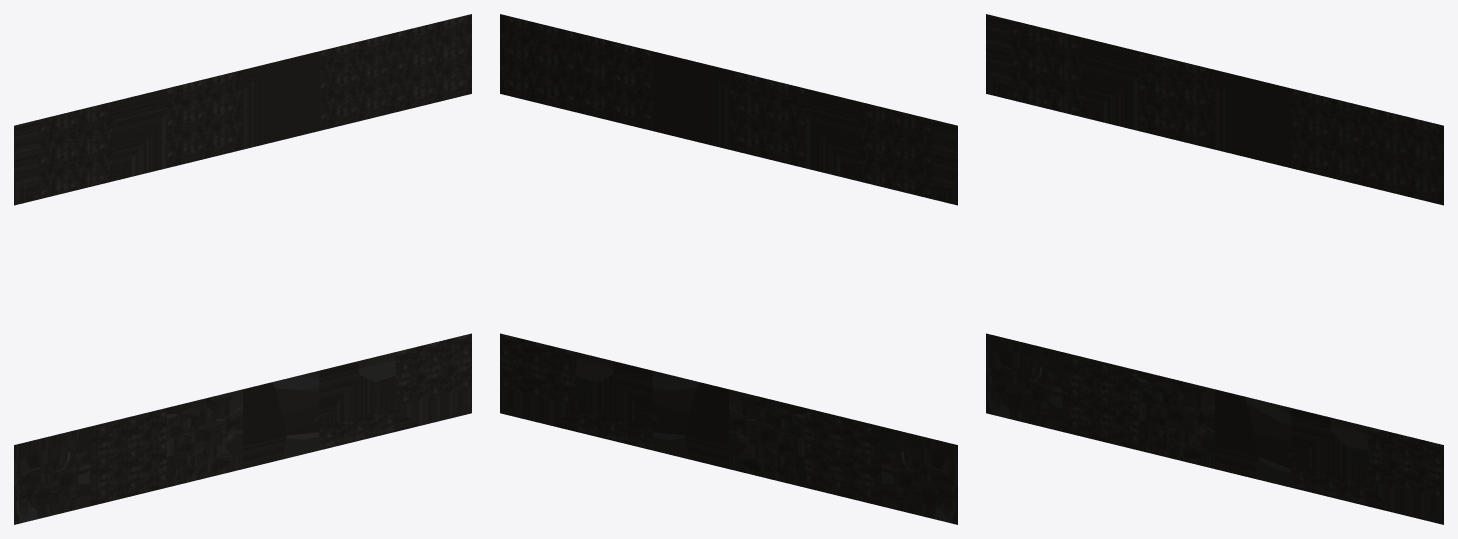
Rendered from Backface_Corridor1to2.fbx.
The picture shows the model from 3 angles, left to right: view 1: azimuth 30°, elevation 25°; view 2: azimuth 150°, elevation 25°; view 3: azimuth 330°, elevation 25°; orthographic projection.
Parts seen in each view (by area): view 1: Backface_Corridor1to2; view 2: Backface_Corridor1to2; view 3: Backface_Corridor1to2.
Boxes of the visible parts, left/top/right/bottom form: Backface_Corridor1to2: left=14, top=14, right=471, bottom=524; Backface_Corridor1to2: left=500, top=14, right=957, bottom=524; Backface_Corridor1to2: left=986, top=14, right=1443, bottom=524.
Bounding box in the file's own units: 600 × 500 × 0.
